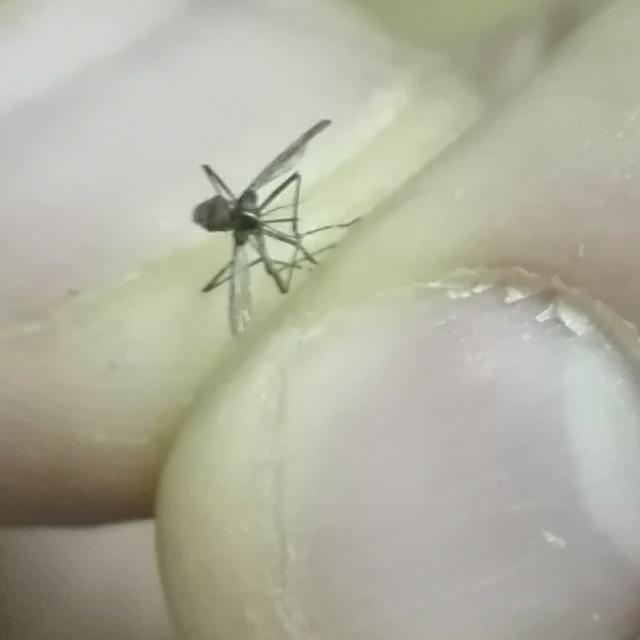albopictus: (176, 108, 369, 332)
